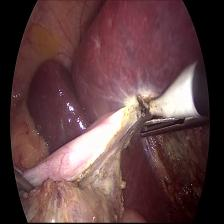Grasper: (137, 113, 192, 145), (14, 160, 46, 199)
Hook: (128, 60, 196, 117)
